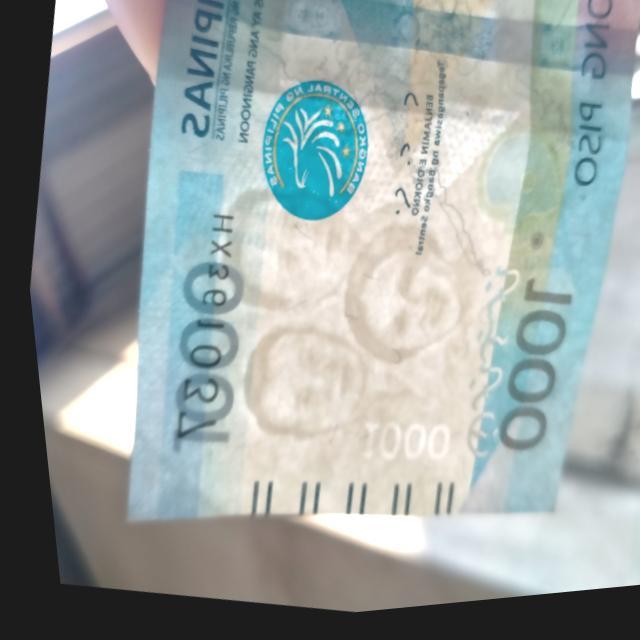security_thread: (163, 0, 640, 121)
see_through_mark: (427, 250, 538, 480)
serial_number: (142, 193, 268, 458)
value_watermark: (337, 408, 453, 483)
watermark: (177, 158, 506, 474)
